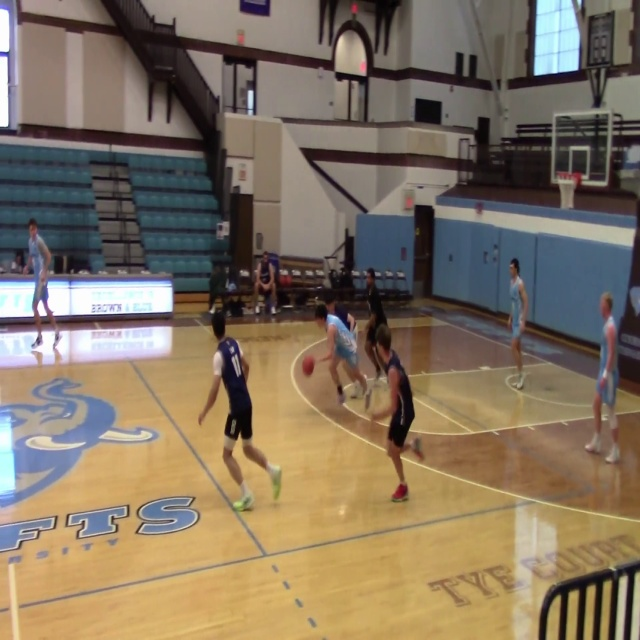Basketball: (302, 355, 315, 376)
